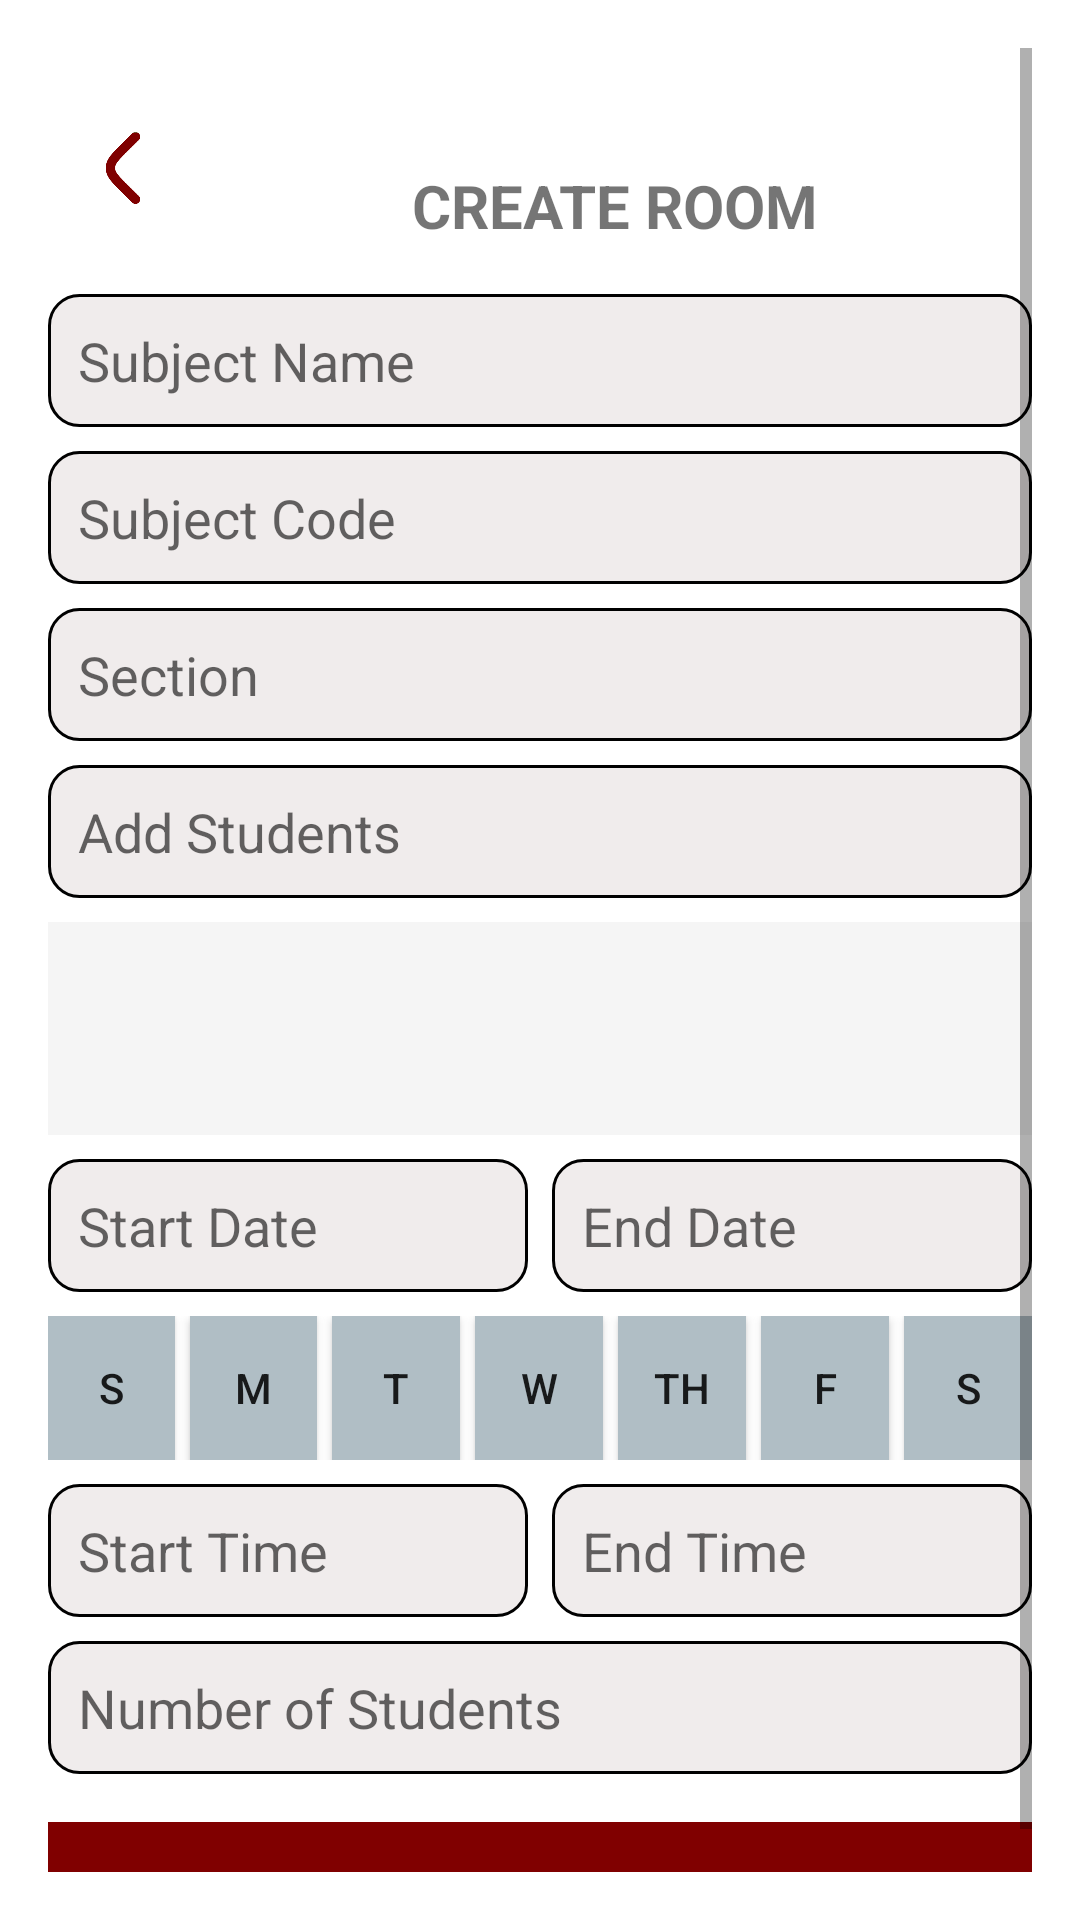

Icon click points for this 1080 × 1920 phone screenshot, format (x=x, y=y):
back: (x=123, y=168)
